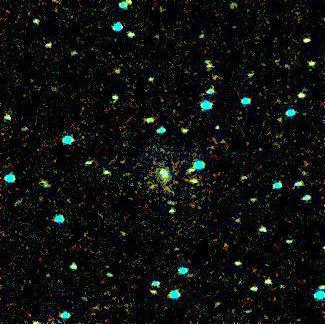star: (136, 173, 166, 203)
